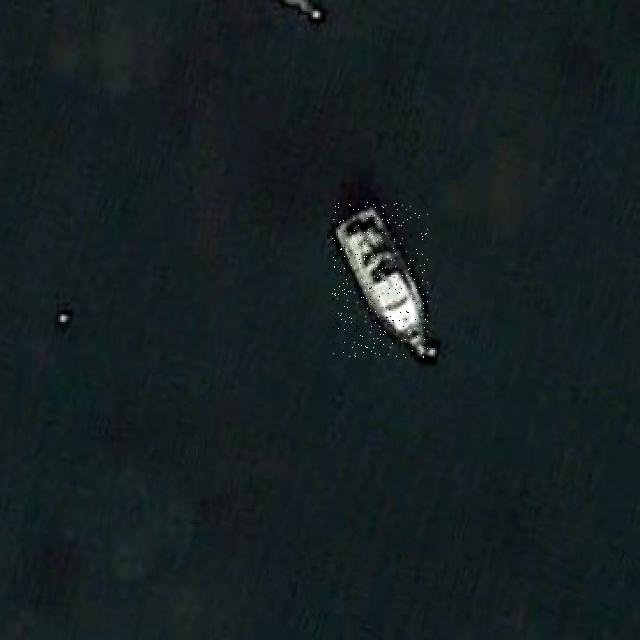boat: (332, 202, 428, 358)
